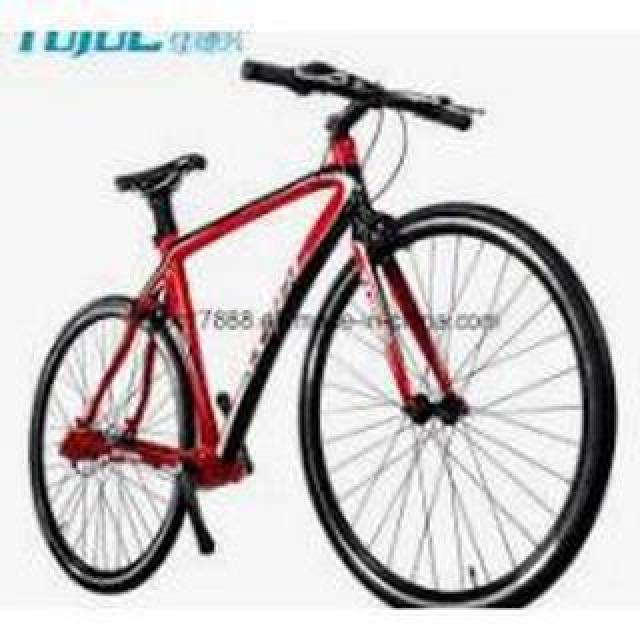Person: (29, 61, 617, 611)
